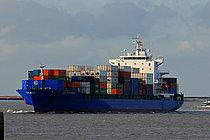Ship: (14, 30, 187, 117)
